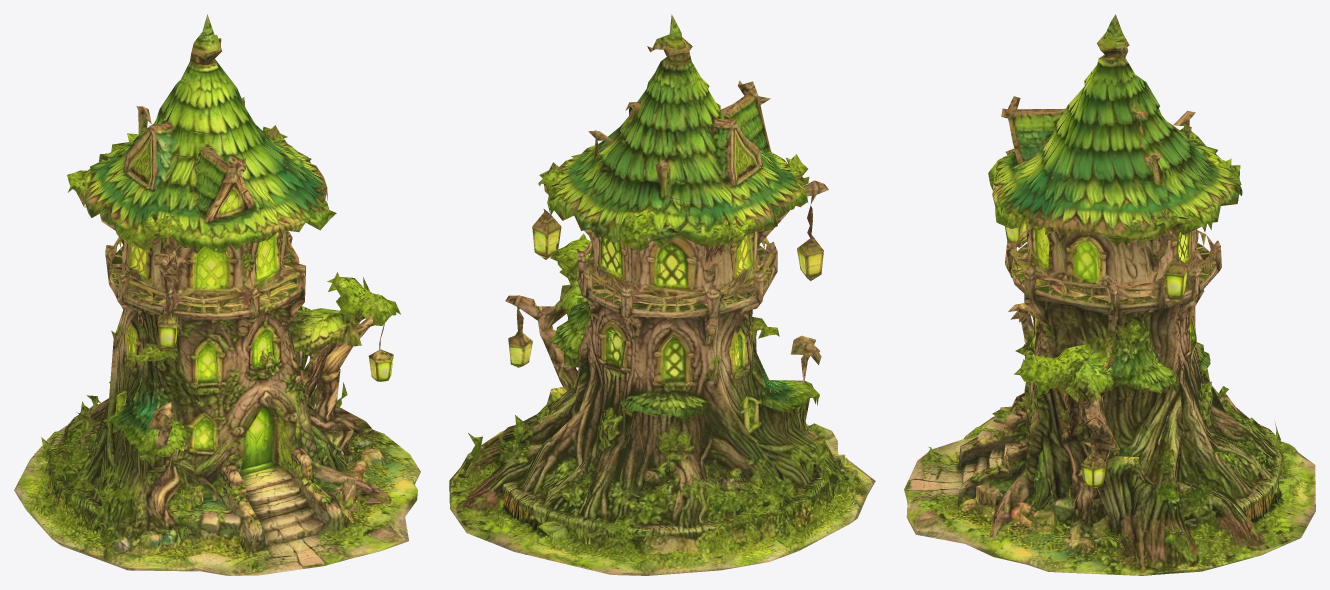
The model's file is treehouse.glb.
The picture shows the model from 3 angles, left to right: view 1: azimuth 30°, elevation 25°; view 2: azimuth 150°, elevation 25°; view 3: azimuth 270°, elevation 25°; orthographic projection.
Visible parts, largest first — view 1: Mesh1.0; view 2: Mesh1.0; view 3: Mesh1.0.
Part boxes in pixels (<box>): Mesh1.0: <box>14,14,420,575</box>; Mesh1.0: <box>449,14,875,575</box>; Mesh1.0: <box>904,14,1315,575</box>.
Bounding box in the file's own units: 1.48 × 1.9 × 1.5.
1 material, 1 textured.
